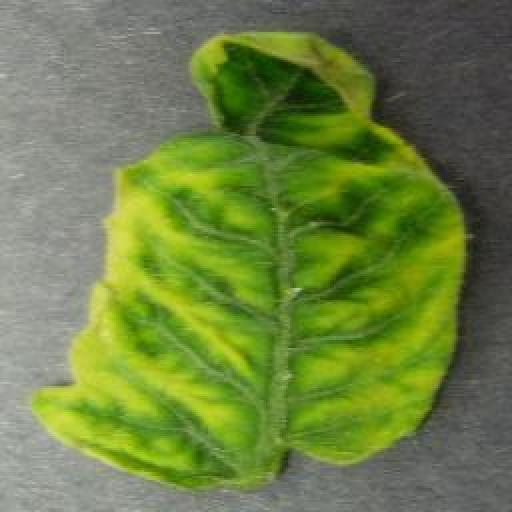disease_tomato: (28, 34, 467, 490)
